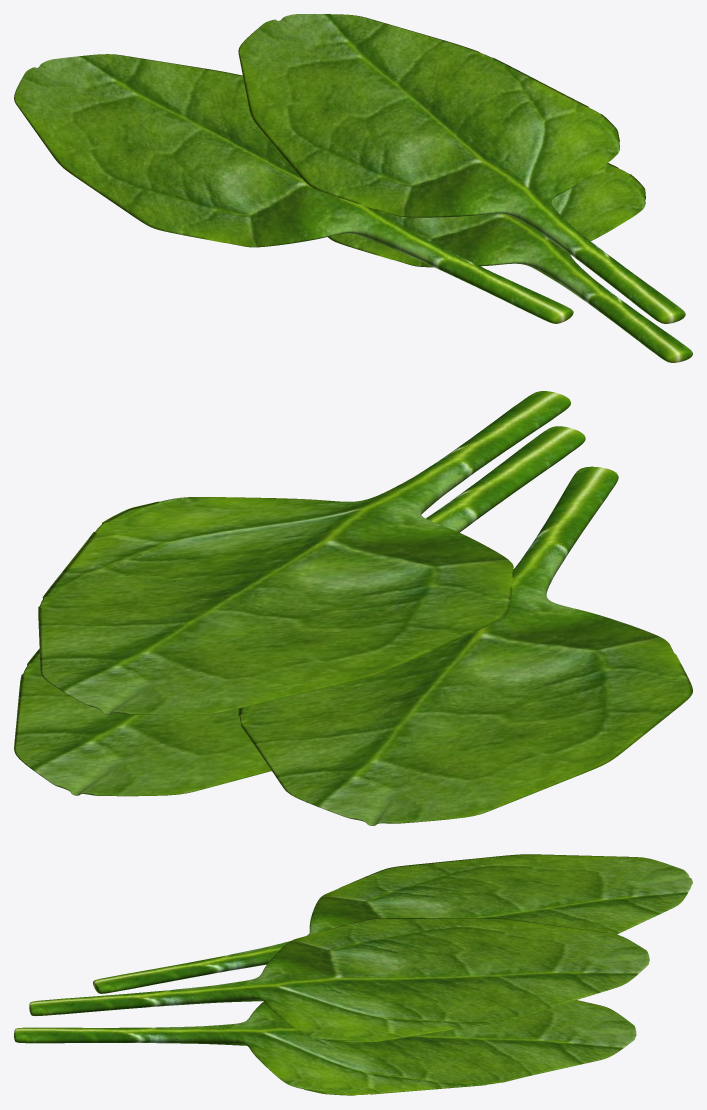
The model's file is spinach.fbx.
The picture shows the model from 3 angles, top to bottom: view 1: azimuth 30°, elevation 25°; view 2: azimuth 150°, elevation 25°; view 3: azimuth 270°, elevation 25°; orthographic projection. The views are drawn at different scales.
Parts seen in each view (by area): view 1: SpinachLeaf2, SpinachLeaf3, SpinachLeaf1; view 2: SpinachLeaf2, SpinachLeaf3, SpinachLeaf1; view 3: SpinachLeaf2, SpinachLeaf1, SpinachLeaf3.
Boxes of the visible parts, box(x1,y1,x2,y2) form: SpinachLeaf2: box(238, 14, 685, 323); SpinachLeaf3: box(14, 54, 573, 323); SpinachLeaf1: box(328, 163, 692, 362); SpinachLeaf2: box(38, 391, 570, 714); SpinachLeaf3: box(238, 466, 692, 825); SpinachLeaf1: box(14, 426, 585, 796); SpinachLeaf2: box(29, 918, 649, 1042); SpinachLeaf1: box(14, 1000, 636, 1095); SpinachLeaf3: box(93, 854, 692, 993).
Bounding box in the file's own units: 0.1694 × 0.0297 × 0.2466.
Materials: 1 (1 with a texture image).
